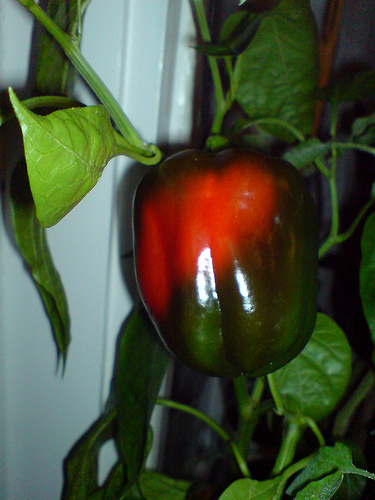capsicum: (133, 135, 318, 378)
